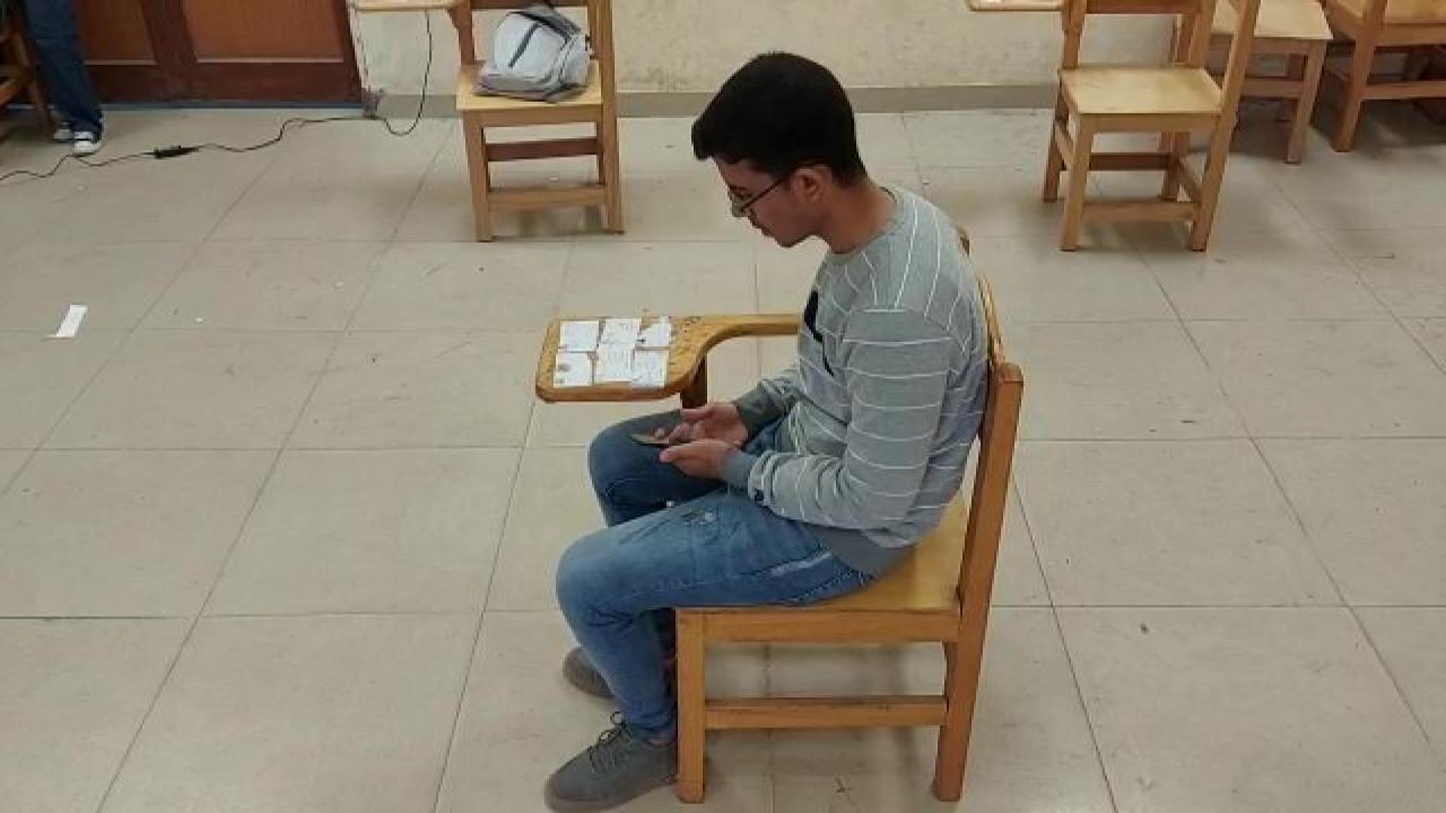phone: (626, 418, 712, 465)
